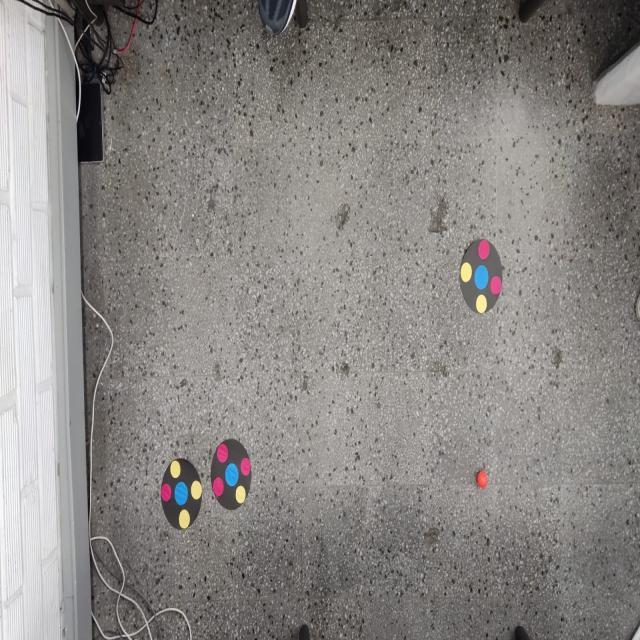0: (211, 438, 251, 511)
1: (460, 238, 503, 314)
2: (160, 458, 202, 531)
Ball: (476, 470, 488, 488)
